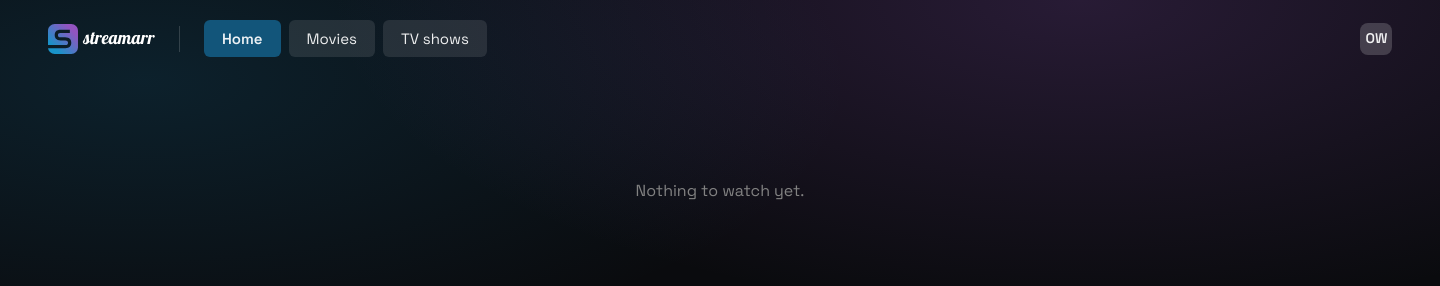
Scenario: library administration › shouldDenyEntryWhenIdentityCannotBeConfirmed
This screenshot has width=1440, height=286.
Click the button with aria-label "Profile menu".
click(1376, 39)  # box [1360,23,1392,55]
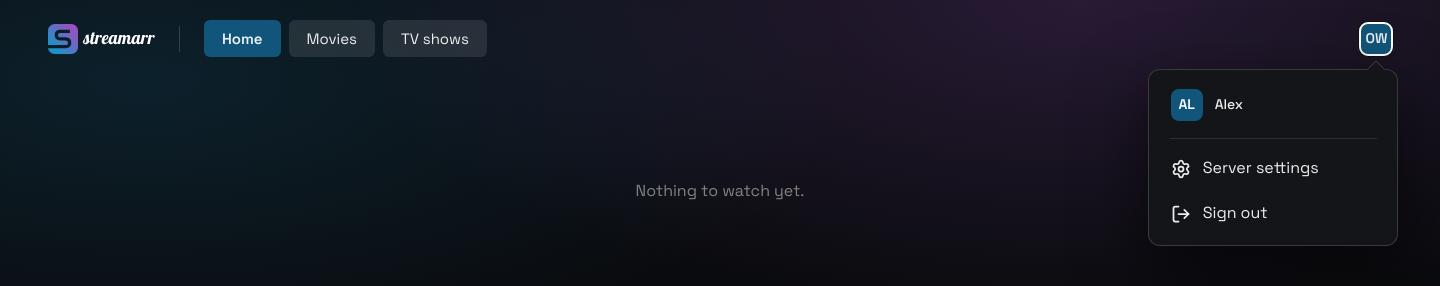
Click the button "Server settings".
click(1273, 169)  # box [1159,147,1387,190]
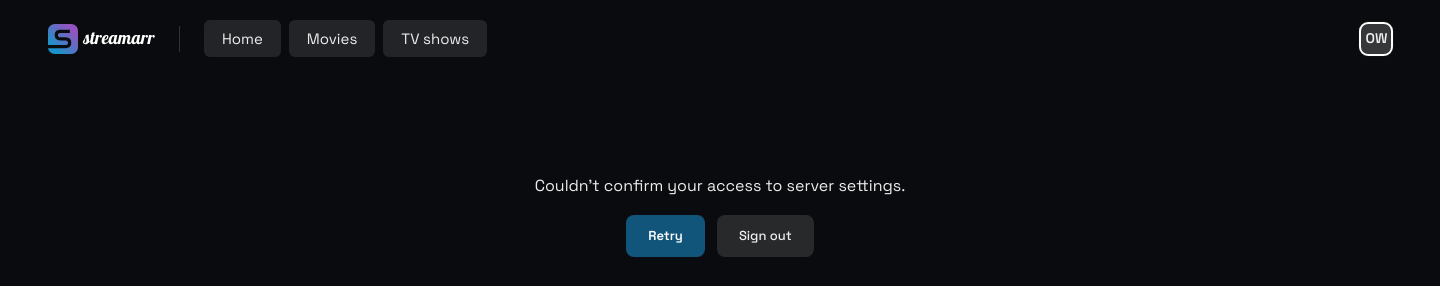
Now the message shows "Couldn't confirm your access", box [535,175,905,196]
Click the button "Retry".
click(666, 236)  # box [626,215,705,257]
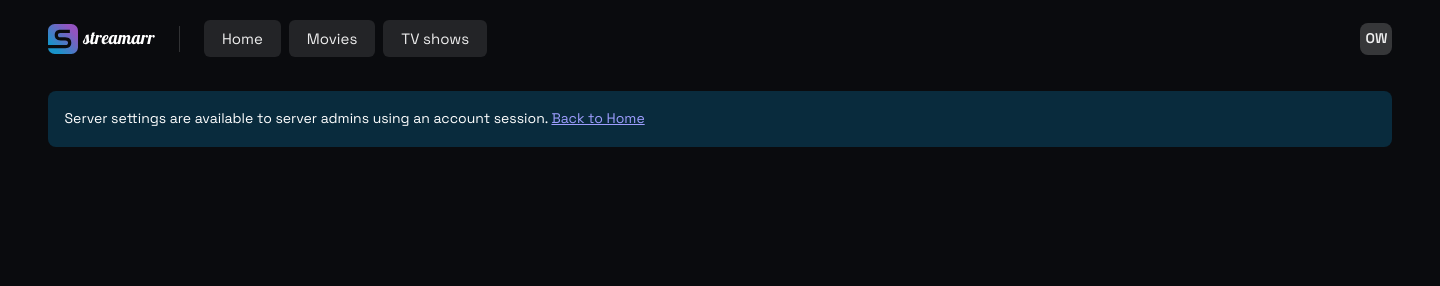
Now the message shows "Server settings are available to server admins", box [64,109,548,127]
